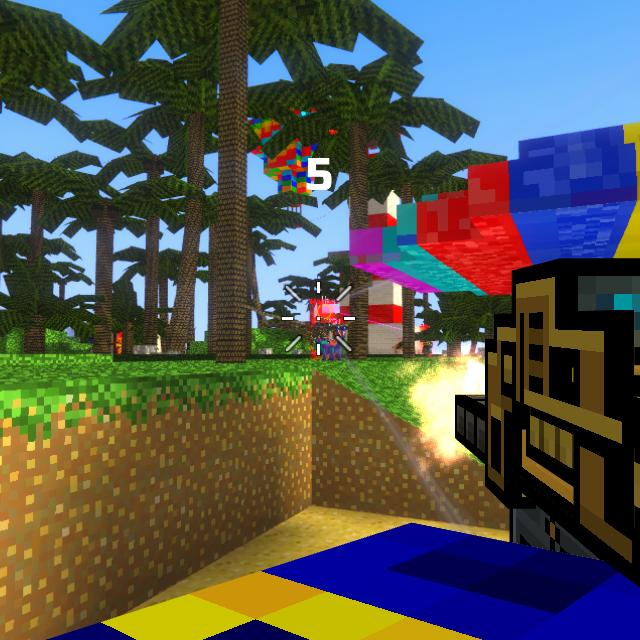Enemy: (311, 316, 337, 359), (422, 343, 433, 355)
